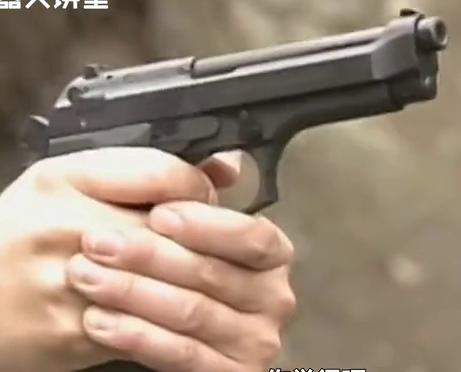gun: (1, 1, 461, 372)
